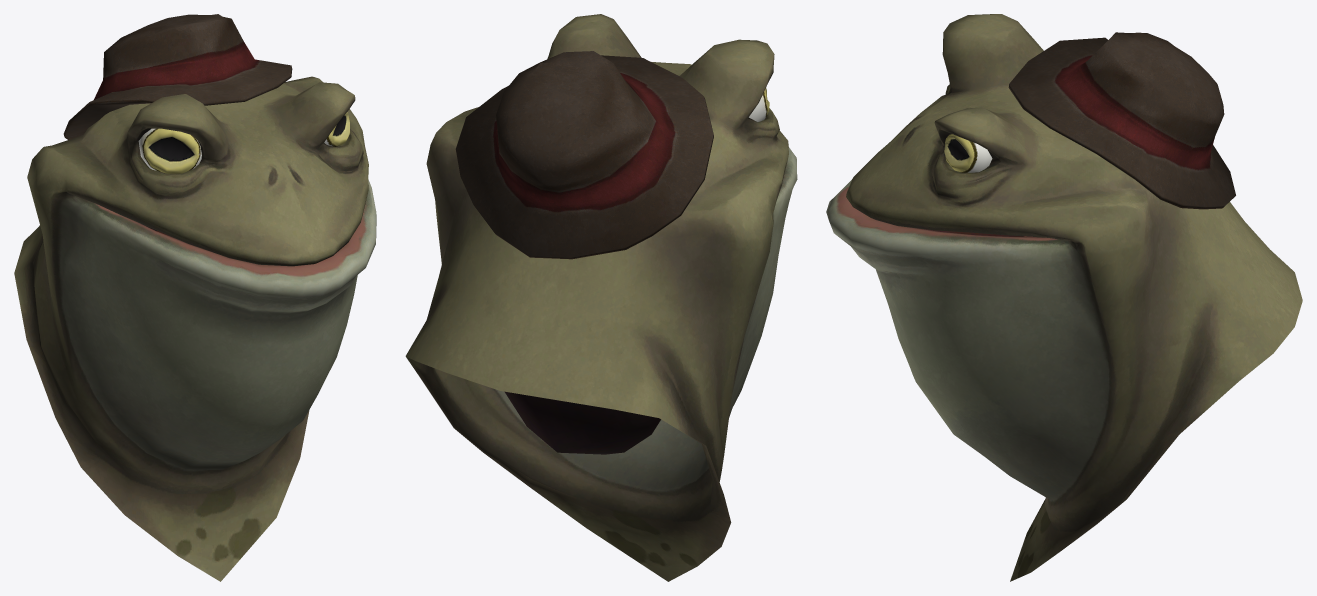
Rendered from mr-toad.glb.
3 views of the same model, side by side, from view 1: azimuth 30°, elevation 25°; view 2: azimuth 150°, elevation 25°; view 3: azimuth 270°, elevation 25° (orthographic). The views are drawn at different scales.
Visible parts, largest first — view 1: Object_14.001, Object_4.001, Object_16.001, Object_6.001, Object_7.001; view 2: Object_14.001, Object_16.001, Object_4.001; view 3: Object_14.001, Object_16.001, Object_4.001, Object_6.001.
Boxes of the visible parts, x1=… form: Object_14.001: x1=27, y1=76, x2=376, y2=470; Object_4.001: x1=14, y1=226, x2=309, y2=581; Object_16.001: x1=63, y1=14, x2=292, y2=139; Object_6.001: x1=138, y1=112, x2=349, y2=173; Object_7.001: x1=148, y1=115, x2=346, y2=161; Object_14.001: x1=426, y1=14, x2=797, y2=489; Object_16.001: x1=455, y1=51, x2=713, y2=259; Object_4.001: x1=405, y1=301, x2=731, y2=581; Object_14.001: x1=826, y1=14, x2=1253, y2=499; Object_16.001: x1=1008, y1=32, x2=1235, y2=209; Object_4.001: x1=1010, y1=222, x2=1302, y2=581; Object_6.001: x1=944, y1=134, x2=992, y2=172.
Bounding box in the file's own units: 0.2294 × 0.3707 × 0.2891.
12 materials, 12 textured.
